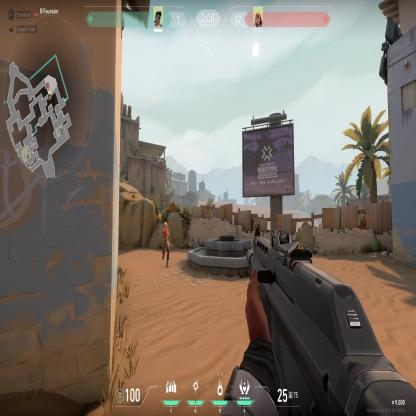enemy: (160, 220, 170, 270)
